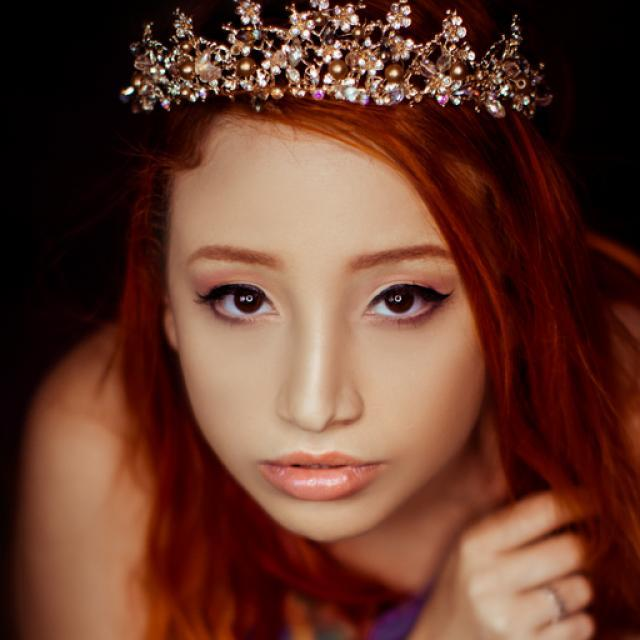neutral: (170, 120, 489, 540)
